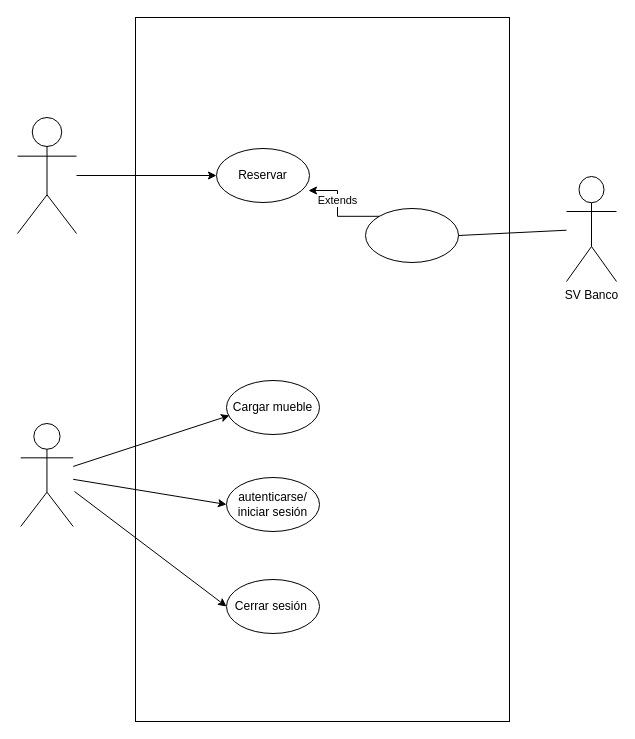
Some shapes in this 635 by 739 pixel diagram are drawn without their labels. The shapes that lost their labels are listed below. From the top down, each one's centre as x and y in pixels, then its label:
[46,175]: Usuario
[411,235]: Pagar con tarjeta credito
[46,474]: Encargado
